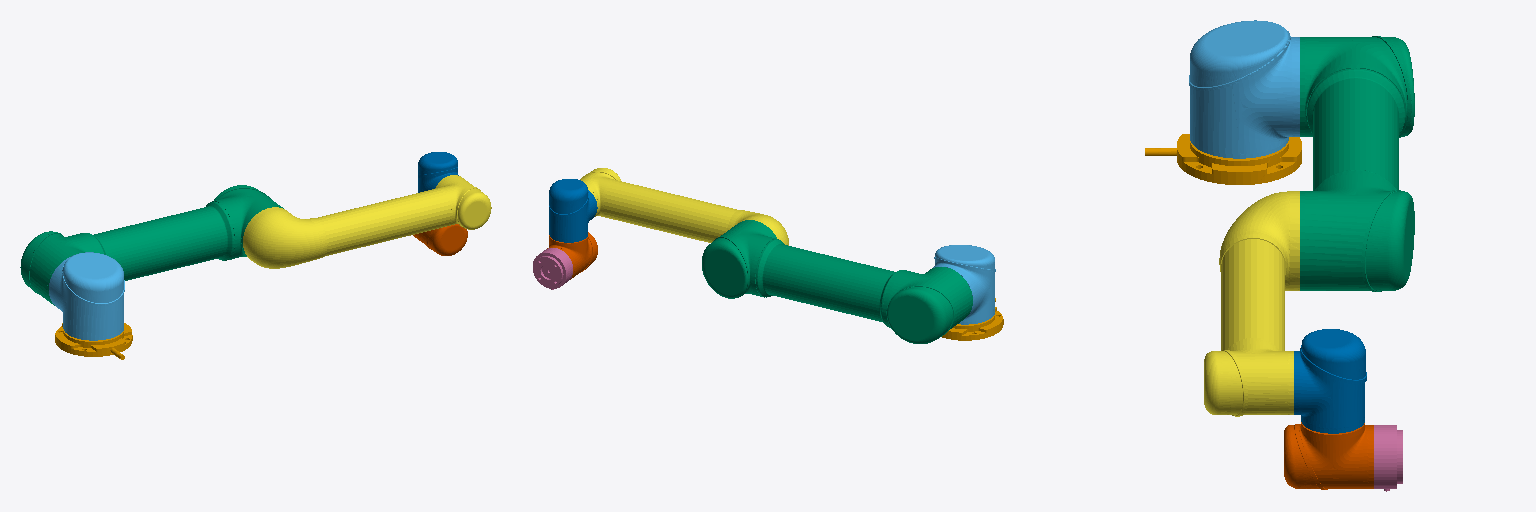
URDF robot description (ur5bh):
<?xml version="1.0" ?>
<!-- =================================================================================== -->
<!-- |    This document was autogenerated by xacro from ur5bh.urdf.xacro               | -->
<!-- |    EDITING THIS FILE BY HAND IS NOT RECOMMENDED                                 | -->
<!-- =================================================================================== -->
<robot name="ur5bh">
  
  <link name="base_link">
    <visual>
      <geometry>
        <mesh filename="package://ur_description/meshes/ur5/visual/base.stl"/>
      </geometry>
      <material name="Grey"/>
    </visual>
    <inertial>
      <mass value="4.0"/>
      <origin rpy="0 0 0" xyz="0.0 0.0 0.0"/>
      <inertia ixx="0.00443333156" ixy="0.0" ixz="0.0" iyy="0.00443333156" iyz="0.0" izz="0.0072"/>
    </inertial>
  </link>
  <joint name="shoulder_pan_joint" type="revolute">
    <parent link="base_link"/>
    <child link="shoulder_link"/>
    <origin rpy="0.0 0.0 0.0" xyz="0.0 0.0 0.089159"/>
    <axis xyz="0 0 1"/>
    <limit effort="150.0" lower="-3.141592653589793" upper="3.141592653589793" velocity="3.15"/>
    <!-- <dynamics damping="0.0" friction="0.0"/> -->
  </joint>
  <link name="shoulder_link">
    <visual>
      <geometry>
        <mesh filename="package://ur_description/meshes/ur5/visual/shoulder.stl"/>
      </geometry>
      <material name="Grey"/>
    </visual>
    <inertial>
      <mass value="3.7"/>
      <origin rpy="0 0 0" xyz="0.0 0.0 0.0"/>
      <inertia ixx="0.010267495893" ixy="0.0" ixz="0.0" iyy="0.010267495893" iyz="0.0" izz="0.00666"/>
    </inertial>
  </link>
  <joint name="shoulder_lift_joint" type="revolute">
    <parent link="shoulder_link"/>
    <child link="upper_arm_link"/>
    <origin rpy="0.0 1.5707963267948966 0.0" xyz="0.0 0.13585 0.0"/>
    <axis xyz="0 1 0"/>
    <limit effort="150.0" lower="-3.141592653589793" upper="3.141592653589793" velocity="3.15"/>
    <!-- <dynamics damping="0.0" friction="0.0"/> -->
  </joint>
  <link name="upper_arm_link">
    <visual>
      <geometry>
        <mesh filename="package://ur_description/meshes/ur5/visual/upperarm.stl"/>
      </geometry>
      <material name="Grey"/>
    </visual>
    <inertial>
      <mass value="8.393"/>
      <origin rpy="0 0 0" xyz="0.0 0.0 0.28"/>
      <inertia ixx="0.22689067591036005" ixy="0.0" ixz="0.0" iyy="0.22689067591036005" iyz="0.0" izz="0.0151074"/>
    </inertial>
  </link>
  <joint name="elbow_joint" type="revolute">
    <parent link="upper_arm_link"/>
    <child link="forearm_link"/>
    <origin rpy="0.0 0.0 0.0" xyz="0.0 -0.1197 0.425"/>
    <axis xyz="0 1 0"/>
    <limit effort="150.0" lower="-3.141592653589793" upper="3.141592653589793" velocity="3.15"/>
    <!-- <dynamics damping="0.0" friction="0.0"/> -->
  </joint>
  <link name="forearm_link">
    <visual>
      <geometry>
        <mesh filename="package://ur_description/meshes/ur5/visual/forearm.stl"/>
      </geometry>
      <material name="Grey"/>
    </visual>
    <inertial>
      <mass value="2.275"/>
      <origin rpy="0 0 0" xyz="0.0 0.0 0.196125"/>
      <inertia ixx="0.03121679102890359" ixy="0.0" ixz="0.0" iyy="0.03121679102890359" iyz="0.0" izz="0.004095"/>
    </inertial>
  </link>
  <joint name="wrist_1_joint" type="revolute">
    <parent link="forearm_link"/>
    <child link="wrist_1_link"/>
    <origin rpy="0.0 1.5707963267948966 0.0" xyz="0.0 0.0 0.39225"/>
    <axis xyz="0 1 0"/>
    <limit effort="28.0" lower="-3.141592653589793" upper="3.141592653589793" velocity="3.2"/>
    <!-- <dynamics damping="0.0" friction="0.0"/> -->
  </joint>
  <link name="wrist_1_link">
    <visual>
      <geometry>
        <mesh filename="package://ur_description/meshes/ur5/visual/wrist1.stl"/>
      </geometry>
      <material name="Grey"/>
    </visual>
    <inertial>
      <mass value="1.219"/>
      <origin rpy="0 0 0" xyz="0.0 0.093 0.0"/>
      <inertia ixx="0.0025598989760400002" ixy="0.0" ixz="0.0" iyy="0.0025598989760400002" iyz="0.0" izz="0.0021942"/>
    </inertial>
  </link>
  <joint name="wrist_2_joint" type="revolute">
    <parent link="wrist_1_link"/>
    <child link="wrist_2_link"/>
    <origin rpy="0.0 0.0 0.0" xyz="0.0 0.093 0.0"/>
    <axis xyz="0 0 1"/>
    <limit effort="28.0" lower="-3.141592653589793" upper="3.141592653589793" velocity="3.2"/>
    <!-- <dynamics damping="0.0" friction="0.0"/> -->
  </joint>
  <link name="wrist_2_link">
    <visual>
      <geometry>
        <mesh filename="package://ur_description/meshes/ur5/visual/wrist2.stl"/>
      </geometry>
      <material name="Grey"/>
    </visual>
    <inertial>
      <mass value="1.219"/>
      <origin rpy="0 0 0" xyz="0.0 0.0 0.09465"/>
      <inertia ixx="0.0025598989760400002" ixy="0.0" ixz="0.0" iyy="0.0025598989760400002" iyz="0.0" izz="0.0021942"/>
    </inertial>
  </link>
  <joint name="wrist_3_joint" type="revolute">
    <parent link="wrist_2_link"/>
    <child link="wrist_3_link"/>
    <origin rpy="0.0 0.0 0.0" xyz="0.0 0.0 0.09465"/>
    <axis xyz="0 1 0"/>
    <limit effort="28.0" lower="-3.141592653589793" upper="3.141592653589793" velocity="3.2"/>
    <!-- <dynamics damping="0.0" friction="0.0"/> -->
  </joint>
  <link name="wrist_3_link">
    <visual>
      <geometry>
        <mesh filename="package://ur_description/meshes/ur5/visual/wrist3.stl"/>
      </geometry>
      <material name="Grey"/>
    </visual>
    <inertial>
      <mass value="0.1879"/>
      <origin rpy="1.5707963267948966 0 0" xyz="0.0 0.06505 0.0"/>
      <inertia ixx="8.469589112163e-05" ixy="0.0" ixz="0.0" iyy="8.469589112163e-05" iyz="0.0" izz="0.0001321171875"/>
    </inertial>
  </link>
  <joint name="ee_fixed_joint" type="fixed">
    <parent link="wrist_3_link"/>
    <child link="ee_link"/>
    <origin rpy="0.0 0.0 1.5707963267948966" xyz="0.0 0.0823 0.0"/>
  </joint>
  <link name="ee_link">
  </link>


  <!-- ROS base_link to UR 'Base' Coordinates transform -->
  <link name="base"/>
  <joint name="base_link-base_fixed_joint" type="fixed">
    <!-- NOTE: this rotation is only needed as long as base_link itself is
                 not corrected wrt the real robot (ie: rotated over 180
                 degrees)
      -->
    <origin rpy="0 0 -3.141592653589793" xyz="0 0 0"/>
    <parent link="base_link"/>
    <child link="base"/>
  </joint>
  <!-- Frame coincident with all-zeros TCP on UR controller -->
  <link name="tool0"/>
  <joint name="wrist_3_link-tool0_fixed_joint" type="fixed">
    <origin rpy="-1.5707963267948966 0 0" xyz="0 0.0823 0"/>
    <parent link="wrist_3_link"/>
    <child link="tool0"/>
  </joint>
  <link name="world"/>
  <joint name="world_joint" type="fixed">
    <parent link="world"/>
    <child link="base_link"/>
    <origin rpy="0.0 0.0 0.0" xyz="0.0 0.0 0.0"/>
  </joint>
  <joint name="bh_base_joint" type="fixed">
    <origin rpy="0.0 1.57079632679 0" xyz="0.0 0.0 0.0"/>
    <insert_block name="origin"/>
    <parent link="ee_link"/>
    <child link="bh_base_link"/>
  </joint>
  <!-- HAND BASE_LINK (RED) -->
  <link name="bh_base_link">
    <inertial>
      <mass value="1.0"/>
      <origin xyz="0 0 0"/>
      <inertia ixx="1.0" ixy="0.0" ixz="0.0" iyy="1.0" iyz="0.0" izz="1.0"/>
    </inertial>
    <visual>
      <origin rpy="0 0 0" xyz="0 0 0"/>
      <geometry>
        <mesh filename="package://bhand_description/meshes/stl/palm_282.stl"/>
      </geometry>
      <material name="Grey"/>
    </visual>
  </link>
  <!-- joint between BH_finger_32_link and BH_finger_33_link -->
  <joint name="bh_j33_joint" type="fixed">
    <parent link="bh_finger_32_link"/>
    <child link="bh_finger_33_link"/>
    <origin rpy="0 0 0" xyz="-0.069936 0.003 0"/>
    <axis xyz="0 0 -1"/>
    <limit effort="30.0" lower="0.0" upper="0.84" velocity="2.0"/>
    <dynamics damping="100.0" friction="1.0"/>
  </joint>
  <link name="bh_finger_11_link">
    <inertial>
      <mass value="0.1"/>
      <origin rpy="0 0 0" xyz="-0.046 0 0"/>
      <inertia ixx="0.01" ixy="0" ixz="0" iyy="0.01" iyz="0" izz="0.01"/>
    </inertial>
    <visual>
      <origin rpy="0 0 0" xyz="0 0 0"/>
      <geometry>
        <mesh filename="package://bhand_description/meshes/knuckle.dae"/>
      </geometry>
      <material name="Green"/>
    </visual>
  </link>
  <!-- joint between BH_palm_link and BH_finger_11_link -->
  <joint name="bh_j11_joint" type="fixed">
    <parent link="bh_base_link"/>
    <child link="bh_finger_11_link"/>
    <origin rpy="0 0 1.5708" xyz="-0.025 0 0.0252"/>
    <axis xyz="0 0 -1"/>
    <limit effort="30.0" lower="0" upper="3.1416" velocity="2.0"/>
    <dynamics damping="100.0" friction="1.0"/>
  </joint>
  <link name="bh_finger_12_link">
    <inertial>
      <mass value="0.1"/>
      <origin rpy="0 0 0" xyz="0 0 0"/>
      <inertia ixx="0.01" ixy="0" ixz="0" iyy="0.01" iyz="0" izz="0.01"/>
    </inertial>
    <visual>
      <origin rpy="0 0 0" xyz="0 0 0"/>
      <geometry>
        <mesh filename="package://bhand_description/meshes/stl/finger.stl"/>
      </geometry>
      <material name="Blue"/>
    </visual>
  </link>
  <!-- joint between BH_finger_11_link and BH_finger_12_link -->
  <joint name="bh_j12_joint" type="fixed">
    <parent link="bh_finger_11_link"/>
    <child link="bh_finger_12_link"/>
    <origin rpy="1.5708 0 0" xyz="-0.05 0 0.0339"/>
    <axis xyz="0 0 -1"/>
    <limit effort="30.0" lower="0.0" upper="2.44" velocity="2.0"/>
    <dynamics damping="100.0" friction="1.0"/>
  </joint>
  <link name="bh_finger_13_link">
    <inertial>
      <mass value="0.1"/>
      <origin rpy="0 0 0" xyz="0 0 0"/>
      <inertia ixx="0.01" ixy="0" ixz="0" iyy="0.01" iyz="0" izz="0.01"/>
    </inertial>
    <visual>
      <origin rpy="0 0 0" xyz="0 0 0"/>
      <geometry>
        <mesh filename="package://bhand_description/meshes/stl/finger_tip.stl"/>
      </geometry>
      <material name="Blue"/>
    </visual>
  </link>
  <!-- joint between BH_finger_12_link and BH_finger_13_link -->
  <joint name="bh_j13_joint" type="fixed">
    <parent link="bh_finger_12_link"/>
    <child link="bh_finger_13_link"/>
    <origin rpy="0 0 0" xyz="-0.069936 0.003 0"/>
    <axis xyz="0 0 -1"/>
    <limit effort="30.0" lower="0.0" upper="0.84" velocity="2.0"/>
    <dynamics damping="100.0" friction="1.0"/>
  </joint>
  <!-- finger 2 -->
  <link name="bh_finger_21_link">
    <inertial>
      <mass value="0.1"/>
      <origin rpy="0 0 0" xyz="-0.046 0 0"/>
      <inertia ixx="0.01" ixy="0" ixz="0" iyy="0.01" iyz="0" izz="0.01"/>
    </inertial>
    <visual>
      <origin rpy="0 0 0" xyz="0 0 0"/>
      <geometry>
        <mesh filename="package://bhand_description/meshes/knuckle.dae"/>
      </geometry>
      <material name="Green"/>
    </visual>
  </link>
  <!-- joint between BH_palm_link and BH_finger_21_link -->
  <joint name="bh_j21_joint" type="fixed">
    <parent link="bh_base_link"/>
    <child link="bh_finger_21_link"/>
    <origin rpy="0 0 1.5708" xyz="0.025 0 0.0252"/>
    <axis xyz="0 0 1"/>
    <limit effort="30.0" lower="0" upper="3.1416" velocity="2.0"/>
    <dynamics damping="100.0" friction="1.0"/>
  </joint>
  <link name="bh_finger_22_link">
    <inertial>
      <mass value="0.1"/>
      <origin rpy="0 0 0" xyz="0 0 0"/>
      <inertia ixx="0.01" ixy="0" ixz="0" iyy="0.01" iyz="0" izz="0.01"/>
    </inertial>
    <visual>
      <origin rpy="0 0 0" xyz="0 0 0"/>
      <geometry>
        <mesh filename="package://bhand_description/meshes/stl/finger.stl"/>
      </geometry>
      <material name="Blue"/>
    </visual>
  </link>
  <!-- joint between BH_finger_21_link and BH_finger_22_link -->
  <joint name="bh_j22_joint" type="fixed">
    <parent link="bh_finger_21_link"/>
    <child link="bh_finger_22_link"/>
    <origin rpy="1.5708 -8.8281E-17 0" xyz="-0.05 0 0.0339"/>
    <axis xyz="0 0 -1"/>
    <limit effort="30.0" lower="0.0" upper="2.44" velocity="2.0"/>
    <dynamics damping="100.0" friction="1.0"/>
  </joint>
  <link name="bh_finger_23_link">
    <inertial>
      <mass value="0.1"/>
      <origin rpy="0 0 0" xyz="0 0 0"/>
      <inertia ixx="0.01" ixy="0" ixz="0" iyy="0.01" iyz="0" izz="0.01"/>
    </inertial>
    <visual>
      <origin rpy="0 0 0" xyz="0 0 0"/>
      <geometry>
        <mesh filename="package://bhand_description/meshes/stl/finger_tip.stl"/>
      </geometry>
      <material name="Blue"/>
    </visual>
  </link>
  <!-- joint between BH_finger_22_link and BH_finger_23_link -->
  <joint name="bh_j23_joint" type="fixed">
    <parent link="bh_finger_22_link"/>
    <child link="bh_finger_23_link"/>
    <origin rpy="0 0 0" xyz="-0.069936 0.003 0"/>
    <axis xyz="0 0 -1"/>
    <limit effort="30.0" lower="0.0" upper="0.84" velocity="2.0"/>
    <dynamics damping="100.0" friction="1.0"/>
  </joint>
  <link name="bh_finger_31_link">
    <inertial>
      <mass value="0.1"/>
      <origin rpy="0 0 0" xyz="-0.046 0 0"/>
      <inertia ixx="0.01" ixy="0" ixz="0" iyy="0.01" iyz="0" izz="0.01"/>
    </inertial>
    <visual>
      <origin rpy="0 0 0" xyz="-0.04 0 0"/>
      <geometry>
        <mesh filename="package://bhand_description/meshes/knuckle_fixed.dae"/>
      </geometry>
      <material name="Black"/>
    </visual>
  </link>
  <joint name="bh_j31_joint" type="fixed">
    <parent link="bh_base_link"/>
    <child link="bh_finger_31_link"/>
    <origin rpy="0 0 -1.570796327" xyz="0 0 0.0252"/>
  </joint>
  <link name="bh_finger_32_link">
    <inertial>
      <mass value="0.1"/>
      <origin rpy="0 0 0" xyz="0 0 0"/>
      <inertia ixx="0.01" ixy="0" ixz="0" iyy="0.01" iyz="0" izz="0.01"/>
    </inertial>
    <visual>
      <origin rpy="0 0 0" xyz="0 0 0"/>
      <geometry>
        <mesh filename="package://bhand_description/meshes/stl/finger.stl"/>
      </geometry>
      <material name="Blue"/>
    </visual>
  </link>
  <joint name="bh_j32_joint" type="fixed">
    <parent link="bh_finger_31_link"/>
    <child link="bh_finger_32_link"/>
    <origin rpy="1.5708 -8.8281E-17 0" xyz="-0.05 0 0.0339"/>
    <axis xyz="0 0 -1"/>
    <limit effort="30.0" lower="0.0" upper="2.44" velocity="2.0"/>
    <dynamics damping="100.0" friction="1.0"/>
  </joint>
  <link name="bh_finger_33_link">
    <inertial>
      <mass value="0.1"/>
      <origin rpy="0 0 0" xyz="0 0 0"/>
      <inertia ixx="0.01" ixy="0" ixz="0" iyy="0.01" iyz="0" izz="0.01"/>
    </inertial>
    <visual>
      <origin rpy="0 0 0" xyz="0 0 0"/>
      <geometry>
        <mesh filename="package://bhand_description/meshes/stl/finger_tip.stl"/>
      </geometry>
      <material name="Blue"/>
    </visual>
  </link>
</robot>

--- Render facts (derived) ---
Views: 3 orthographic renders of the robot side by side, from view 1: azimuth 30°, elevation 25°; view 2: azimuth 150°, elevation 25°; view 3: azimuth 270°, elevation 25°.
Model ur5bh with 21 links and 20 joints (6 revolute, 14 fixed), rooted at world, posed every joint at zero.
Visible links, largest first — view 1: upper_arm_link, forearm_link, shoulder_link, base_link, wrist_1_link, wrist_2_link; view 2: upper_arm_link, forearm_link, shoulder_link, wrist_1_link, wrist_3_link, wrist_2_link, base_link; view 3: upper_arm_link, forearm_link, shoulder_link, wrist_1_link, wrist_2_link, base_link, wrist_3_link.
Link boxes in pixels (x1=…): upper_arm_link: x1=20, y1=185, x2=283, y2=305; forearm_link: x1=243, y1=175, x2=491, y2=268; shoulder_link: x1=49, y1=252, x2=124, y2=340; base_link: x1=55, y1=323, x2=132, y2=359; wrist_1_link: x1=418, y1=152, x2=458, y2=192; wrist_2_link: x1=413, y1=224, x2=467, y2=255; upper_arm_link: x1=702, y1=220, x2=972, y2=343; forearm_link: x1=580, y1=168, x2=788, y2=245; shoulder_link: x1=933, y1=245, x2=995, y2=324; wrist_1_link: x1=549, y1=179, x2=597, y2=242; wrist_3_link: x1=533, y1=248, x2=572, y2=289; wrist_2_link: x1=547, y1=232, x2=597, y2=279; base_link: x1=942, y1=298, x2=1003, y2=340; upper_arm_link: x1=1300, y1=36, x2=1414, y2=291; forearm_link: x1=1204, y1=191, x2=1299, y2=416; shoulder_link: x1=1189, y1=20, x2=1299, y2=158; wrist_1_link: x1=1294, y1=329, x2=1366, y2=433; wrist_2_link: x1=1284, y1=422, x2=1373, y2=489; base_link: x1=1145, y1=134, x2=1301, y2=184; wrist_3_link: x1=1374, y1=425, x2=1402, y2=491.
Size in the robot's own frame: 0.9295 by 0.3144 by 0.2062 metres.
7 mesh visuals loaded from 12 distinct referenced files (7 binary STL); not drawn: 10 (reference not matched to a file when rendering).